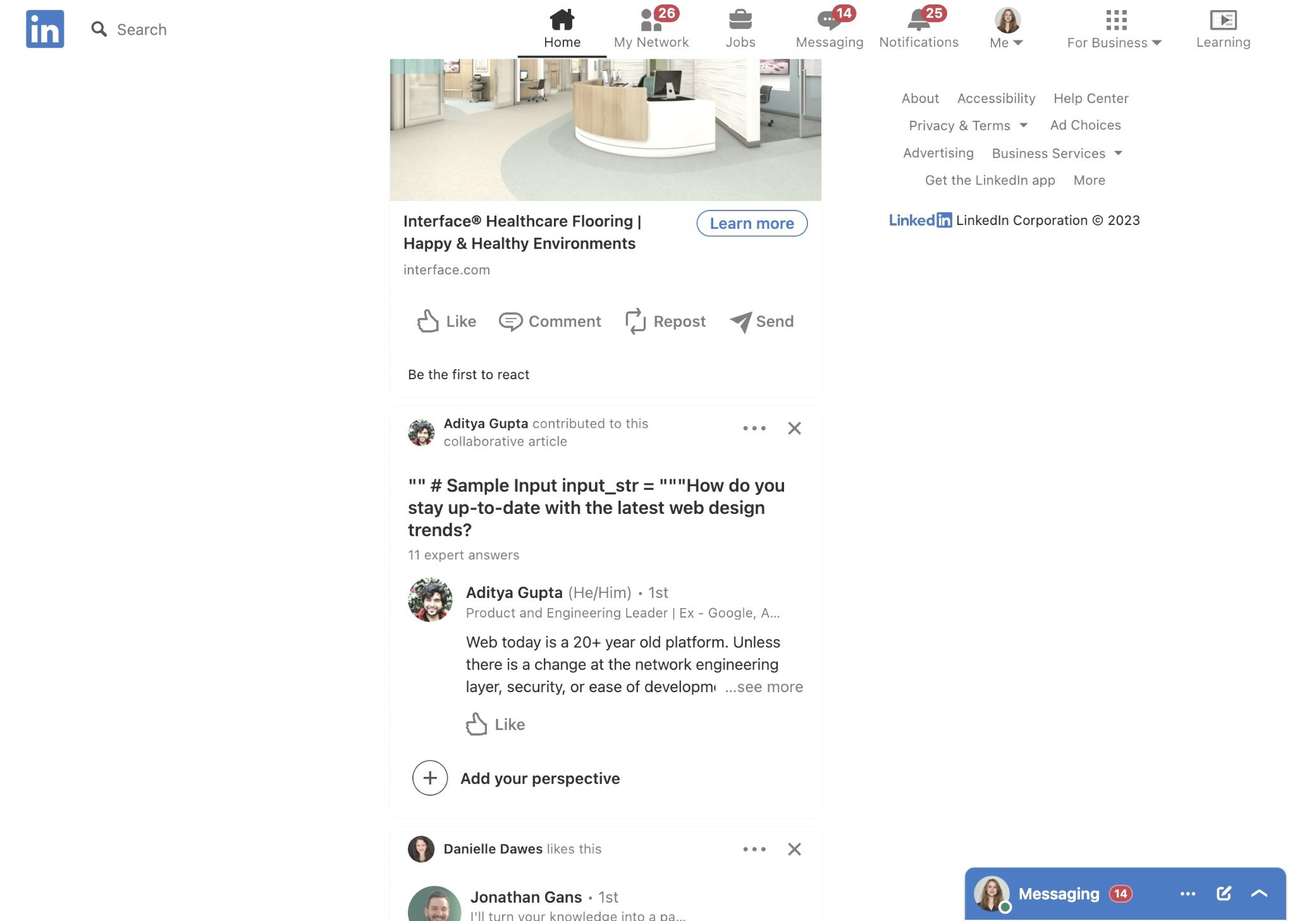webelement: (389, 572, 820, 751), (465, 632, 797, 851), (847, 84, 1181, 229), (517, 0, 1267, 57), (402, 210, 807, 281), (389, 751, 820, 804), (465, 581, 789, 622), (72, 9, 384, 46), (469, 886, 766, 921), (402, 211, 641, 252), (411, 760, 619, 795), (1052, 0, 1178, 57), (443, 415, 648, 448), (489, 295, 610, 348), (33, 8, 187, 44), (465, 604, 789, 621), (614, 295, 714, 348), (517, 0, 606, 57), (606, 0, 695, 57), (963, 0, 1052, 57), (1178, 0, 1267, 57), (696, 0, 784, 57), (785, 0, 873, 57), (874, 0, 962, 57), (719, 295, 802, 348), (512, 412, 696, 435), (512, 833, 696, 856), (407, 295, 485, 348), (469, 908, 766, 921), (223, 15, 396, 37), (461, 698, 528, 751), (696, 209, 807, 236), (51, 15, 169, 37), (991, 143, 1126, 162), (908, 115, 1032, 134), (527, 306, 601, 337), (924, 171, 1054, 188), (407, 365, 528, 383), (469, 887, 582, 906), (465, 581, 562, 603), (21, 6, 67, 51), (714, 675, 802, 698), (614, 308, 714, 328), (1216, 4, 1260, 48), (407, 577, 451, 621), (407, 546, 518, 563), (407, 886, 460, 921), (416, 306, 475, 337), (1066, 32, 1164, 50), (719, 308, 802, 328), (652, 306, 704, 337), (566, 581, 630, 604), (443, 840, 541, 855), (1017, 884, 1098, 902), (878, 32, 958, 50), (956, 88, 1035, 106), (613, 32, 688, 50), (1053, 88, 1128, 106), (402, 261, 489, 276), (973, 876, 1009, 912), (1169, 876, 1205, 912), (1049, 115, 1120, 133), (902, 143, 973, 161), (587, 406, 623, 441), (443, 415, 527, 430), (776, 410, 811, 446), (587, 827, 623, 862), (776, 831, 811, 867), (1205, 876, 1240, 912), (1241, 876, 1276, 912), (795, 32, 862, 50), (755, 306, 792, 337), (890, 210, 952, 226), (1196, 32, 1250, 50), (542, 840, 600, 855), (586, 886, 619, 908), (635, 581, 667, 603), (994, 6, 1021, 32), (407, 419, 433, 446), (740, 415, 766, 441), (407, 836, 433, 862), (740, 836, 766, 862), (988, 32, 1025, 50), (901, 88, 938, 106), (543, 32, 579, 50), (1072, 171, 1104, 188), (724, 32, 754, 50), (653, 3, 680, 21), (921, 3, 946, 21), (832, 3, 856, 21), (1178, 885, 1196, 903)
